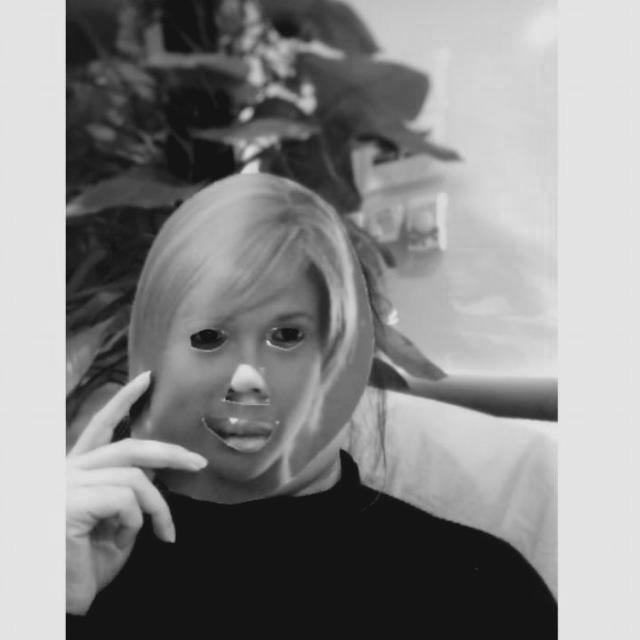fake: (118, 169, 378, 506)
